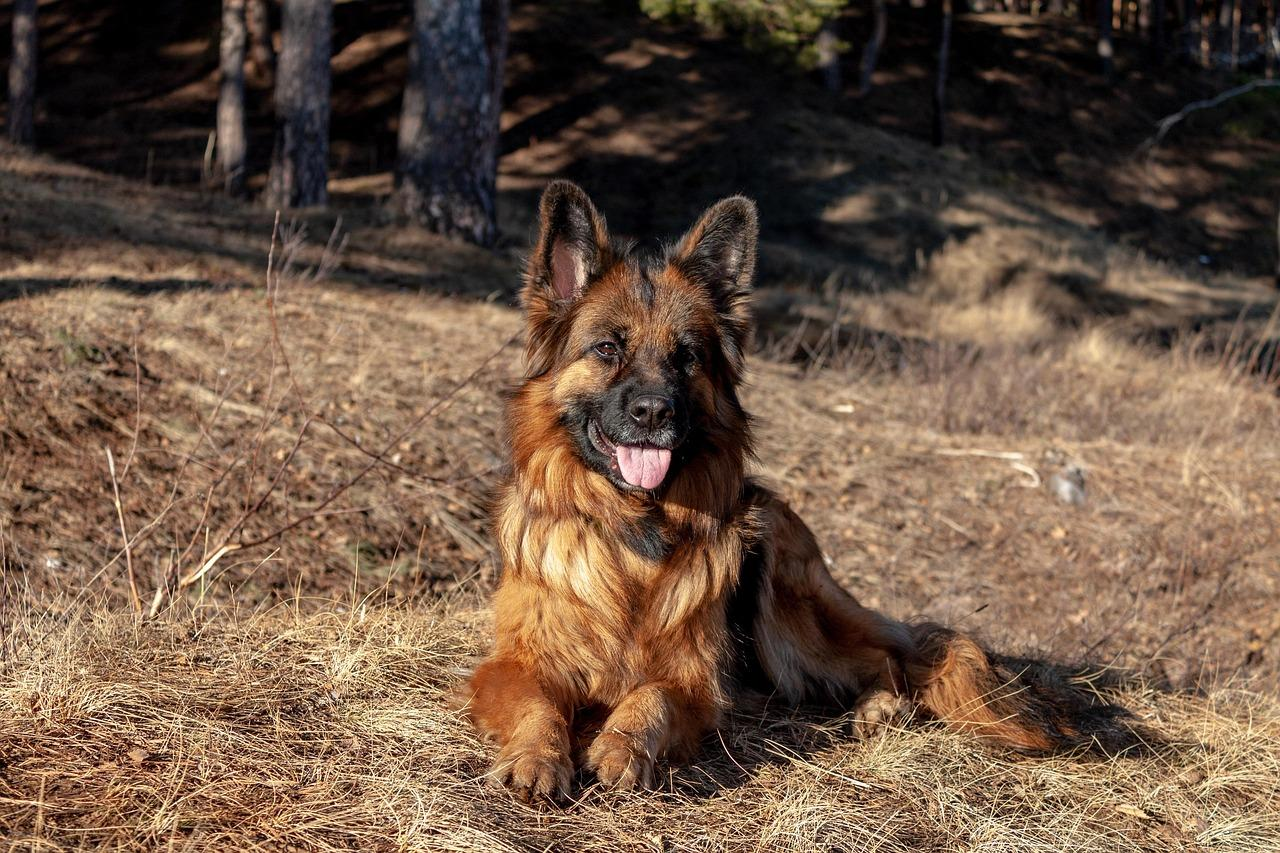german_shepherd: (521, 192, 756, 509)
